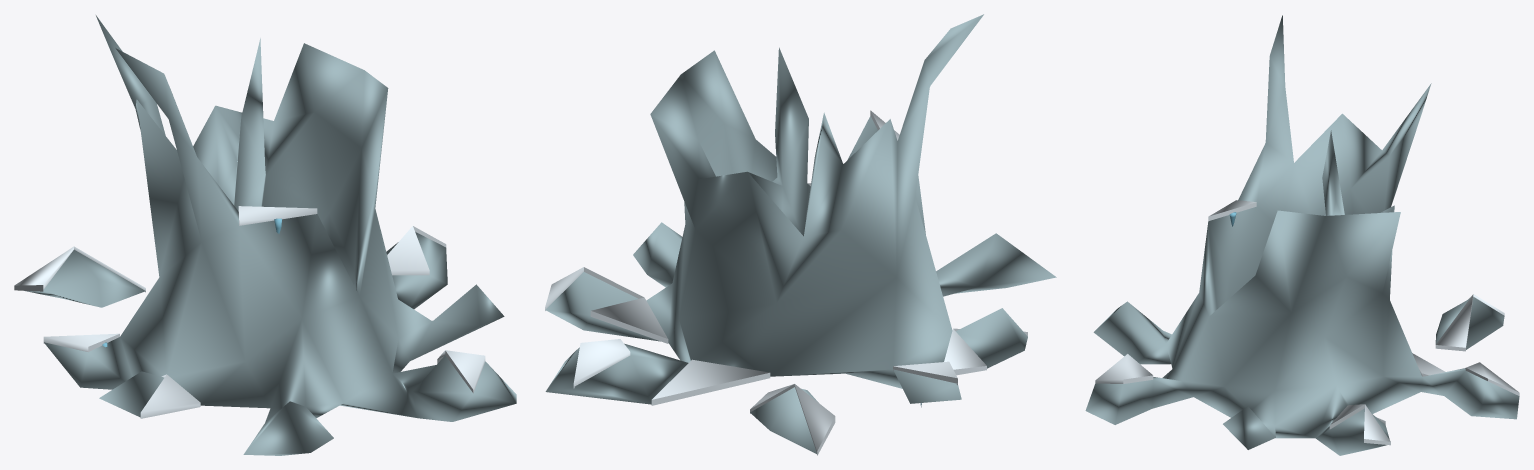
Rendered from FirstRoom_FrozenGrass.fbx.
The picture shows the model from 3 angles, left to right: view 1: azimuth 30°, elevation 25°; view 2: azimuth 150°, elevation 25°; view 3: azimuth 270°, elevation 25°; orthographic projection. The views are drawn at different scales.
Parts seen in each view (by area): view 1: FirstRoom_FrozenGrass_LOD0; view 2: FirstRoom_FrozenGrass_LOD0; view 3: FirstRoom_FrozenGrass_LOD0.
Boxes of the visible parts, x1,y1,x2,y2 form: FirstRoom_FrozenGrass_LOD0: (14,15,516,455); FirstRoom_FrozenGrass_LOD0: (545,14,1056,455); FirstRoom_FrozenGrass_LOD0: (1085,15,1519,455).
Size of what is drawn, in the model's own units: 5.42 by 4.69 by 6.
